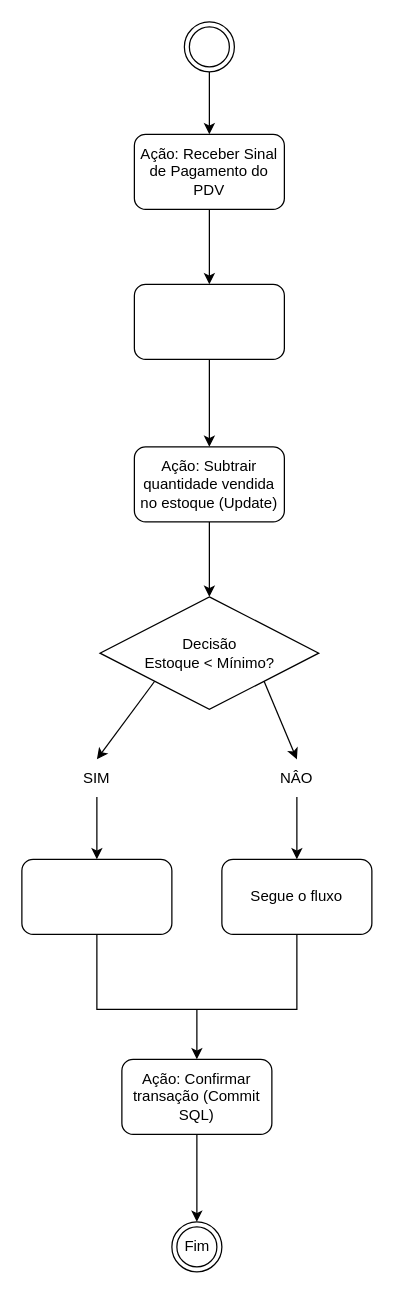
Some shapes in this 394 by 1294 pixel diagram are drawn without their labels. Here are the shapes that lost their labels. From the top down, the box of each, then its label:
(183, 21, 234, 72): Início
(133, 283, 284, 359): Ação: Consultar itens da comanda no BD (SQL)
(21, 858, 172, 934): Ação: Gerar Alerta de reposição
